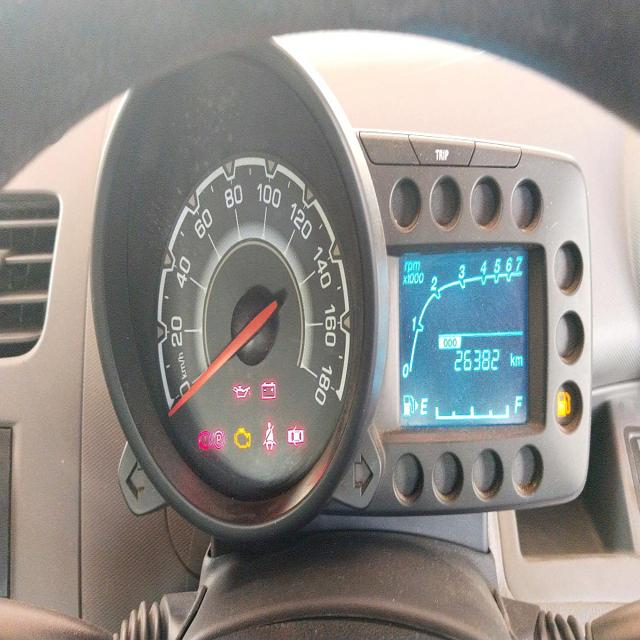odometer: (451, 345, 502, 378)
